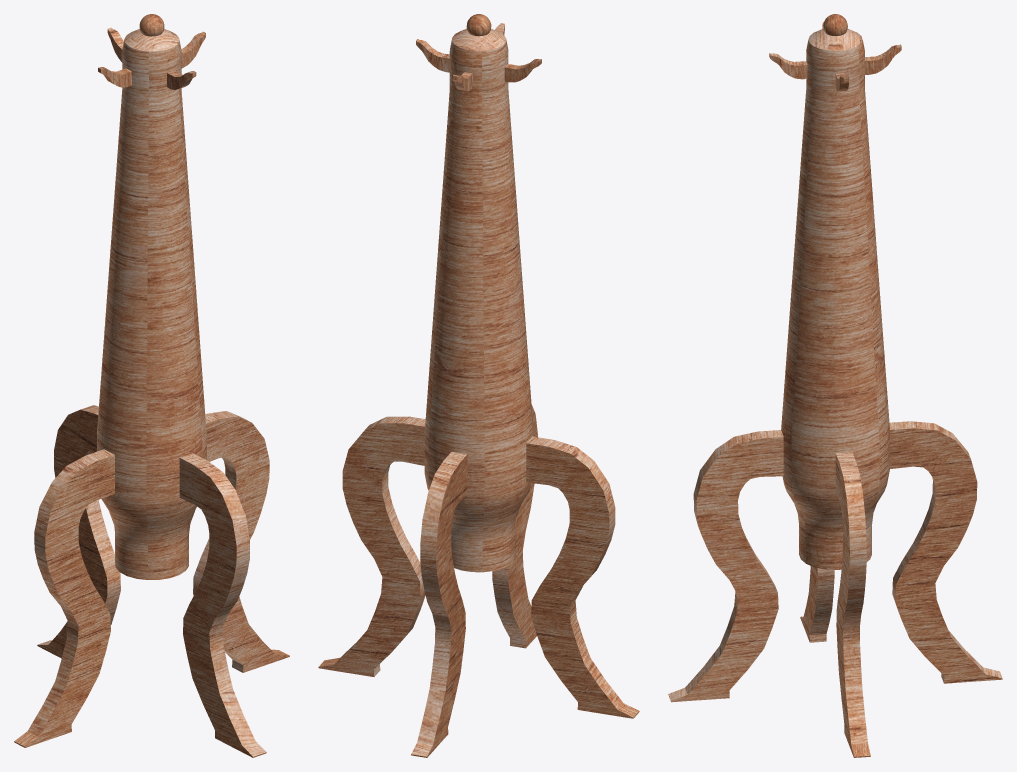
The model's file is mvh_rack.fbx.
3 renders of one model, left to right at view 1: azimuth 30°, elevation 25°; view 2: azimuth 150°, elevation 25°; view 3: azimuth 270°, elevation 25°, orthographic.
Visible parts, largest first — view 1: polySurface5; view 2: polySurface5; view 3: polySurface5.
Part boxes in pixels (box(x1,y1,x2,y2)): polySurface5: box(14, 14, 289, 757); polySurface5: box(318, 14, 639, 757); polySurface5: box(668, 14, 1002, 757).
Bounding box in the file's own units: 9.17 × 20.36 × 9.17.
1 material, 1 textured.
